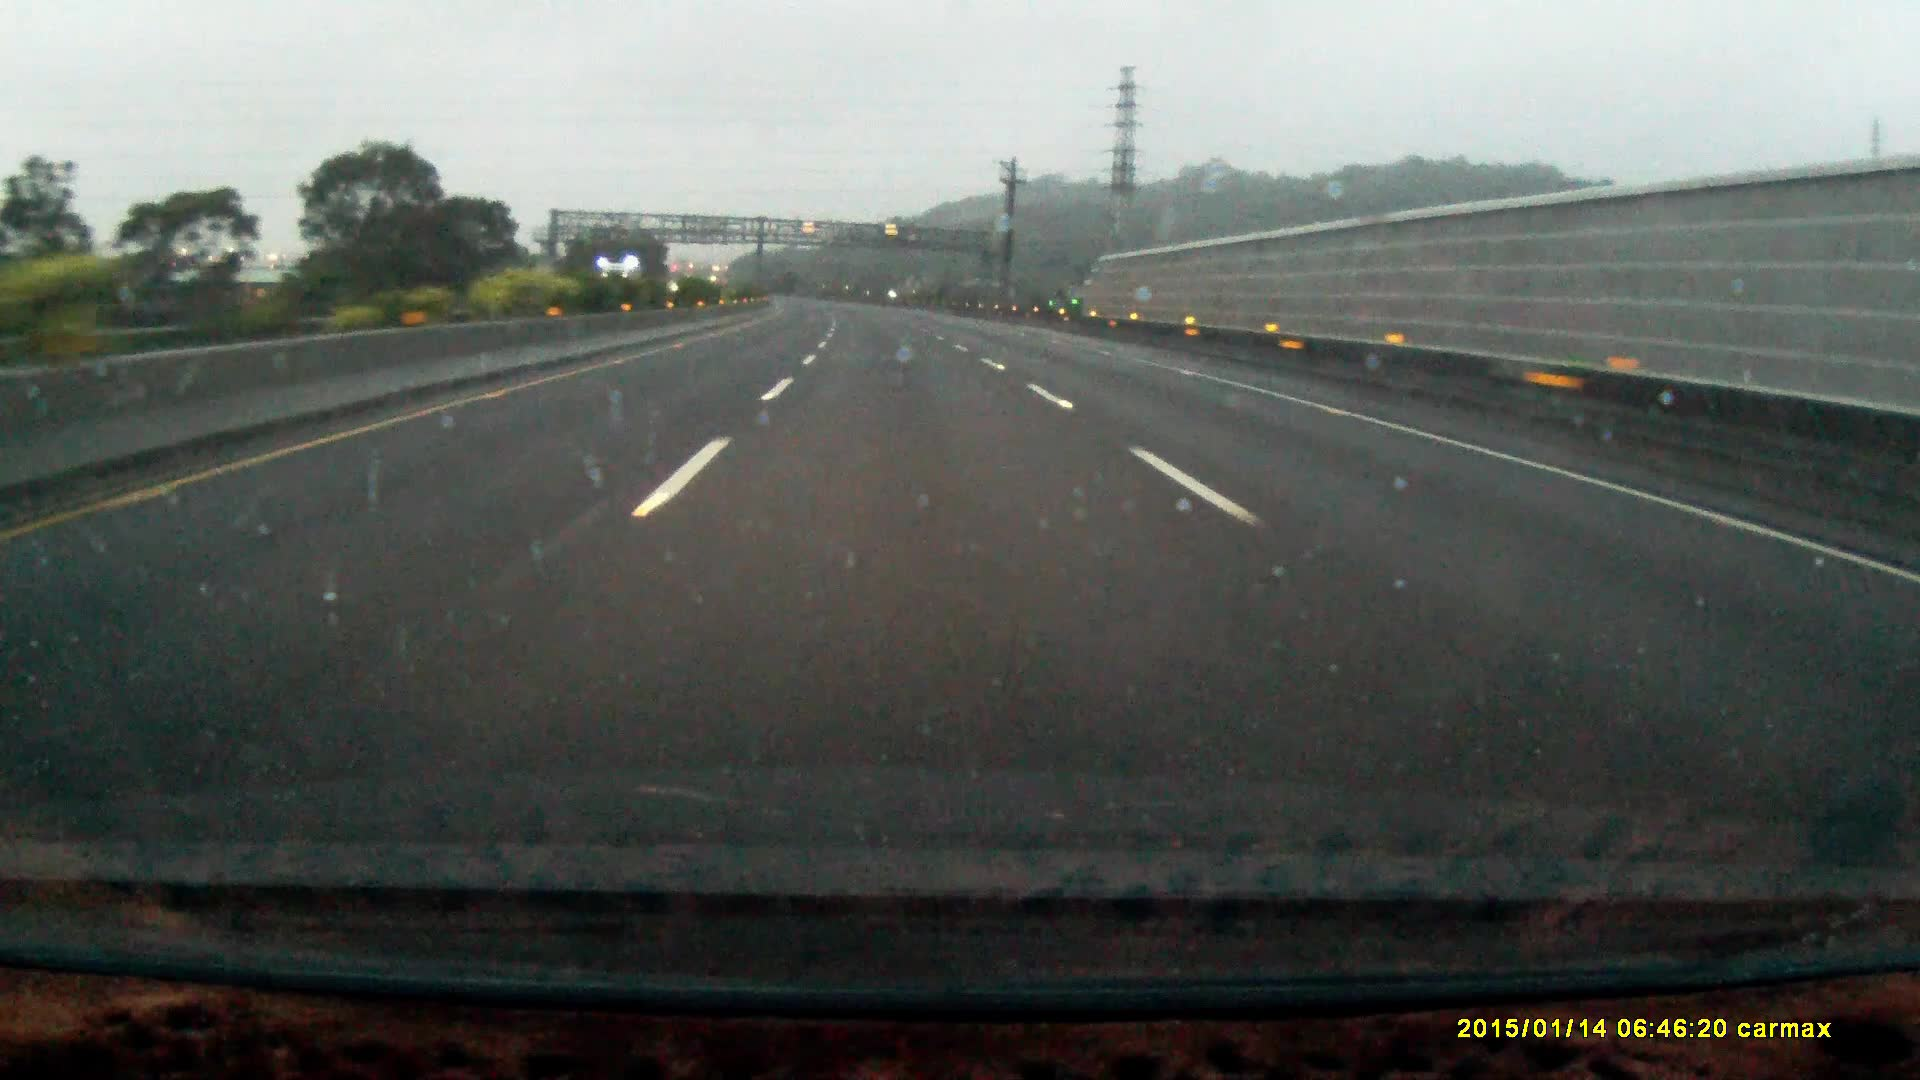vehicle: (599, 260, 644, 313)
